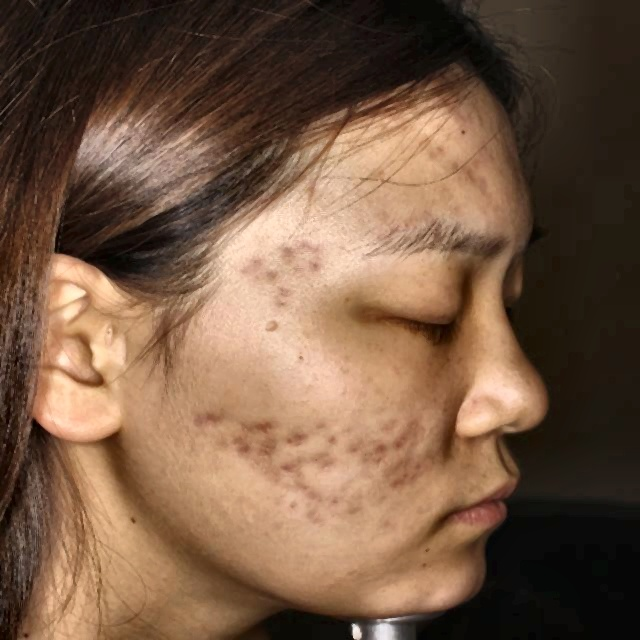pustule: (393, 459, 423, 501), (240, 248, 270, 279), (388, 424, 418, 455), (254, 442, 283, 472), (303, 257, 330, 289), (276, 239, 301, 268), (196, 408, 218, 434), (369, 436, 388, 466), (234, 429, 252, 458), (246, 422, 275, 438), (470, 146, 492, 164), (288, 431, 304, 449), (316, 442, 324, 467)
